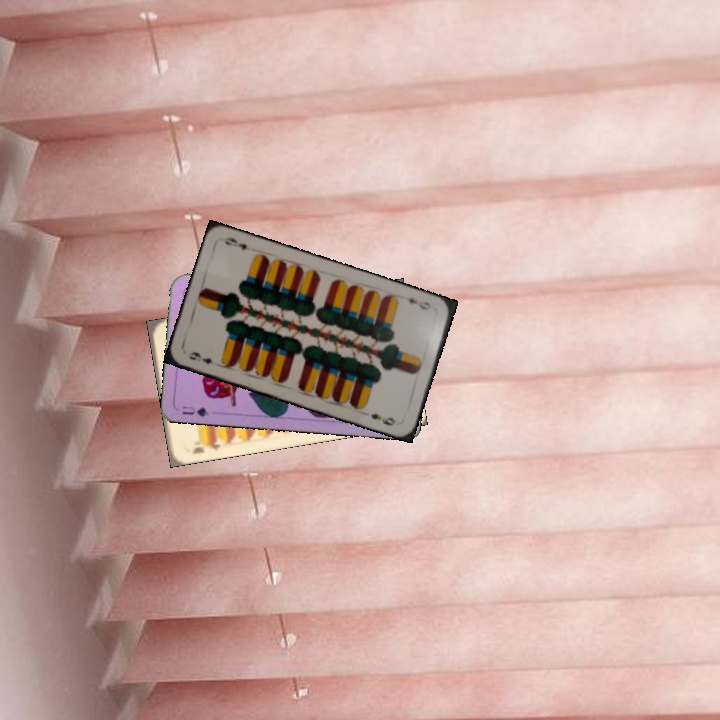E10: (188, 435, 223, 457)
E9: (183, 347, 216, 368), (402, 293, 433, 313)
GU: (178, 402, 211, 419)
